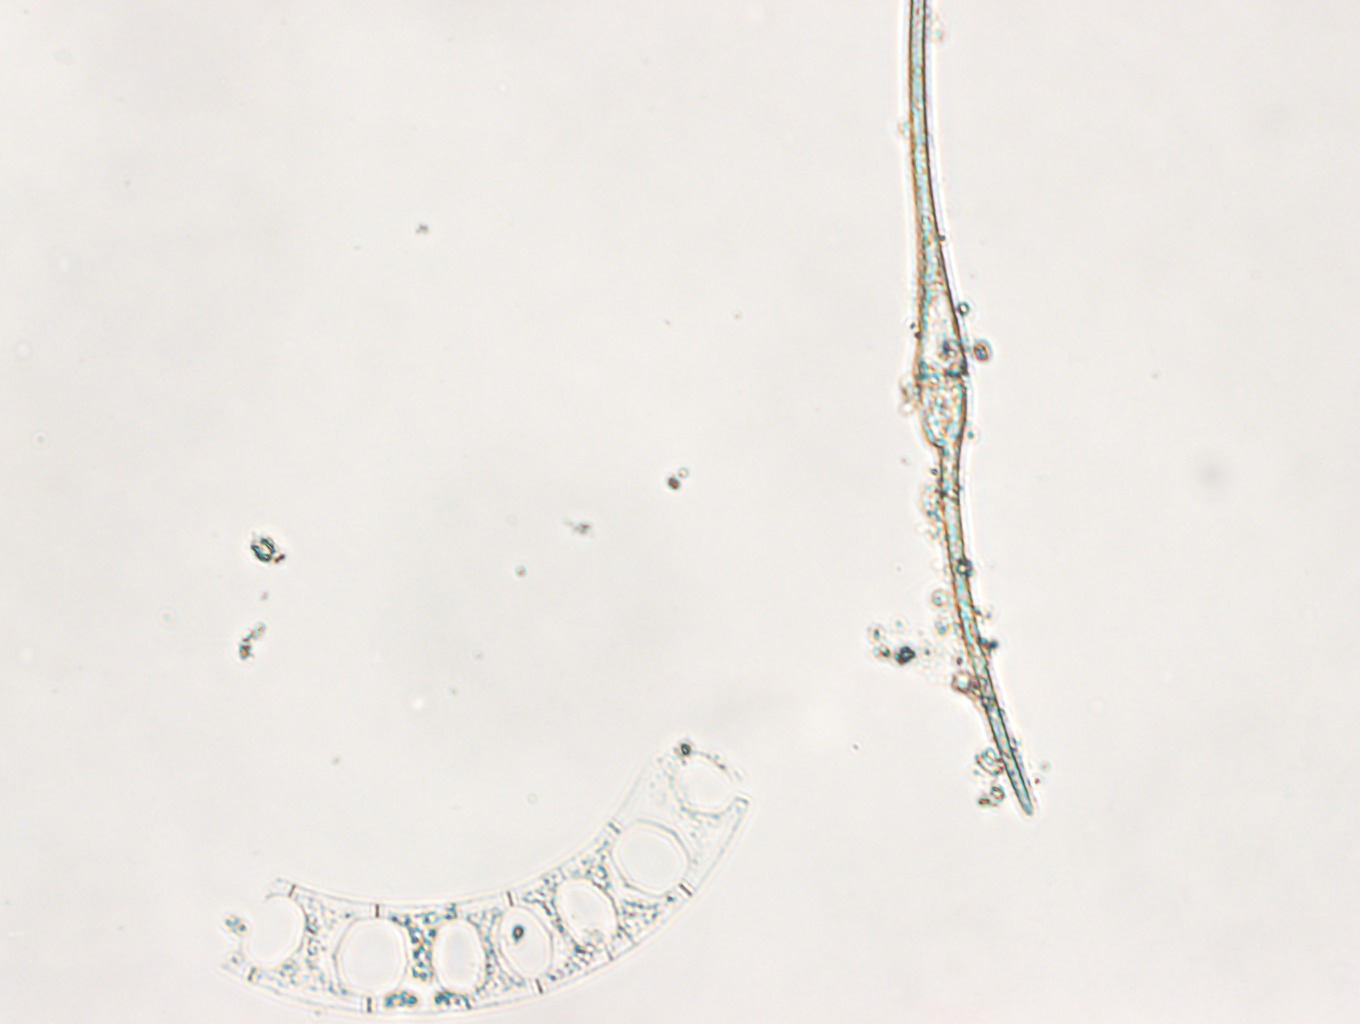ceratium fusus: (907, 1, 1036, 816)
eucampia: (216, 749, 751, 1014)
